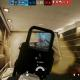Character: (36, 44, 39, 46)
